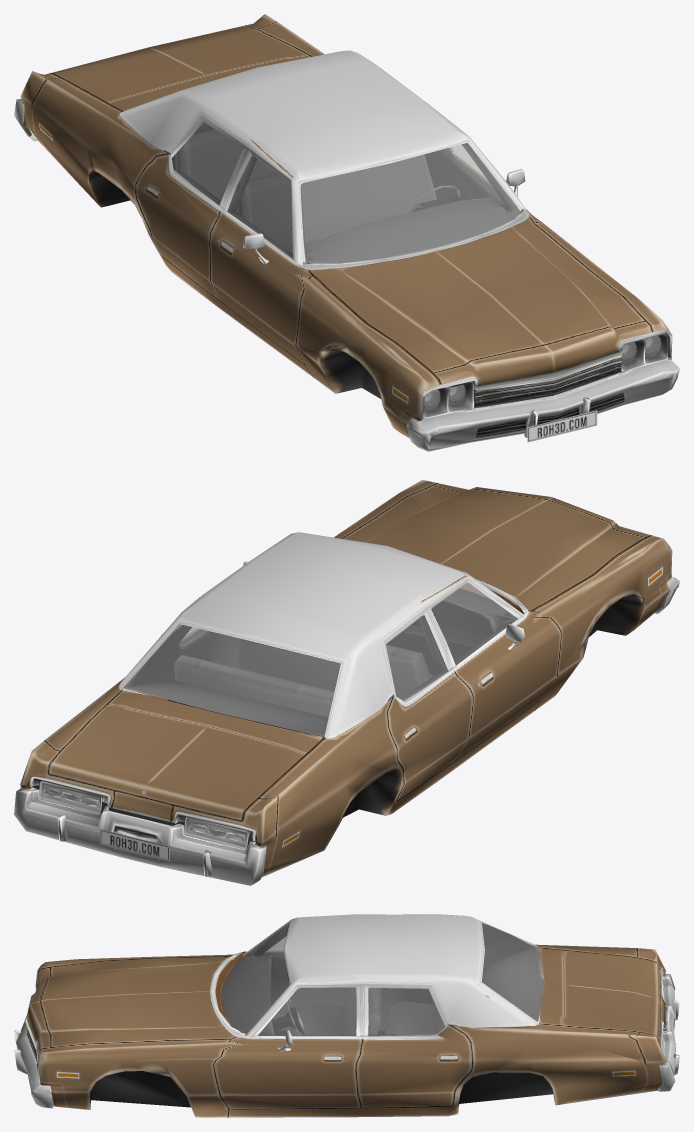
Rendered from chassis_d3.obj.
3 renders of one model, top to bottom at view 1: azimuth 30°, elevation 25°; view 2: azimuth 150°, elevation 25°; view 3: azimuth 270°, elevation 25°, orthographic. The views are drawn at different scales.
Parts seen in each view (by area): view 1: Body, Glass; view 2: Body, Glass; view 3: Body, Glass.
Boxes of the visible parts, x1,y1,x2,y2 form: Body: [14, 14, 679, 451]; Glass: [132, 101, 660, 409]; Body: [14, 480, 679, 885]; Glass: [42, 583, 517, 845]; Body: [14, 914, 679, 1117]; Glass: [221, 922, 662, 1044].
Bounding box in the file's own units: 210 × 126 × 562.
2 materials, 1 textured.
